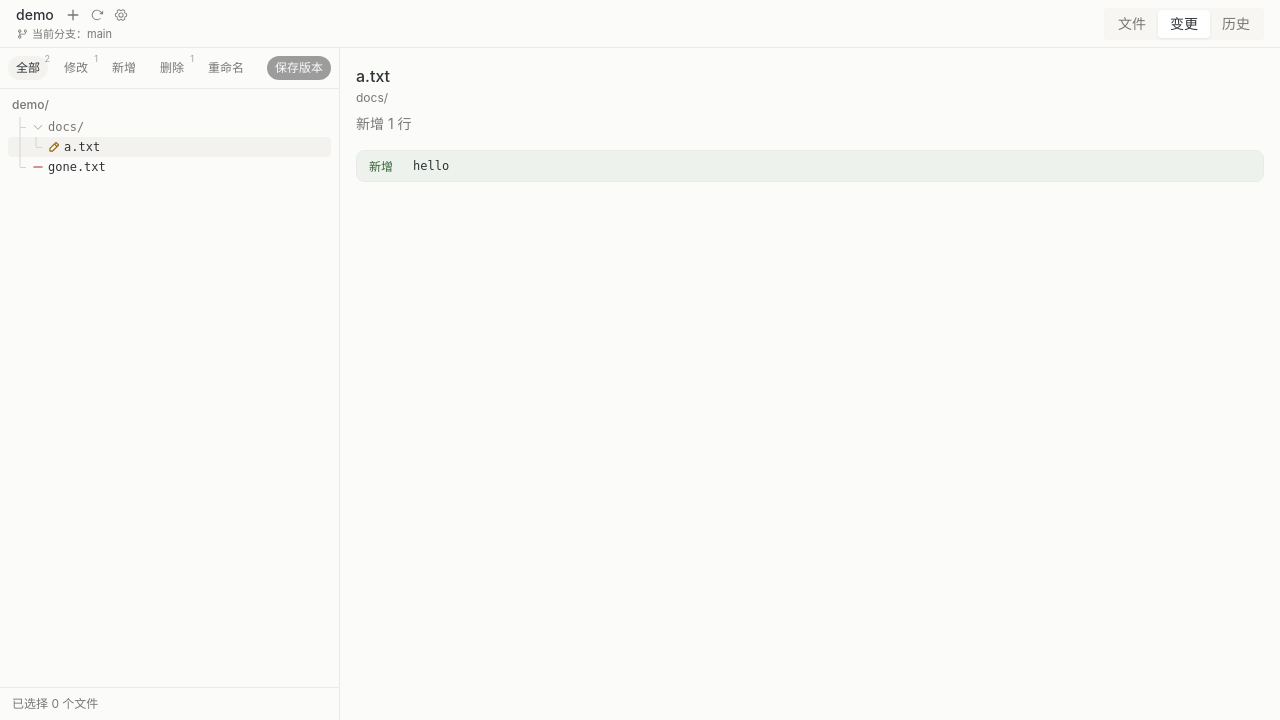
Test case: ProjectPage sidebar context menus › toggles change directories with caret clicks
Expected: the 2nd text titled "修改 · docs/a.txt" is shown, [64,139,100,155]
Click the button titled "docs/" at (38, 127), box [32,119,310,135]
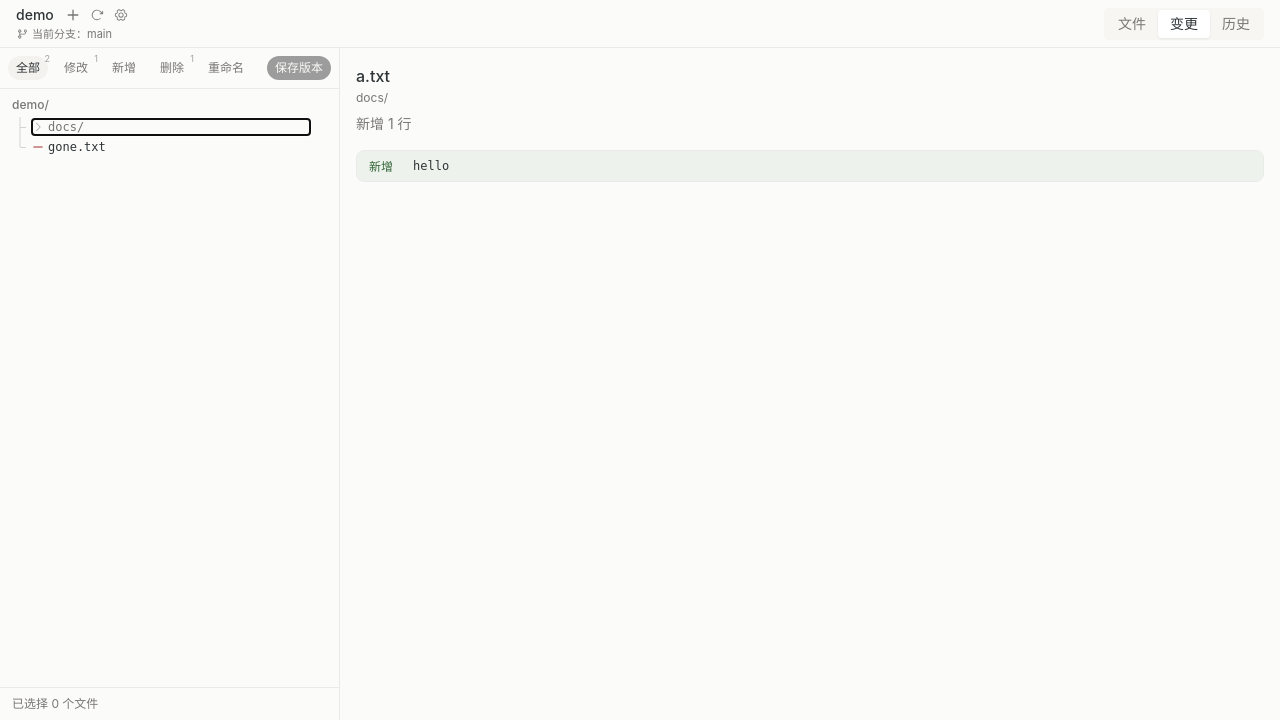
Click the button titled "docs/" at (38, 127), box [32,119,310,135]
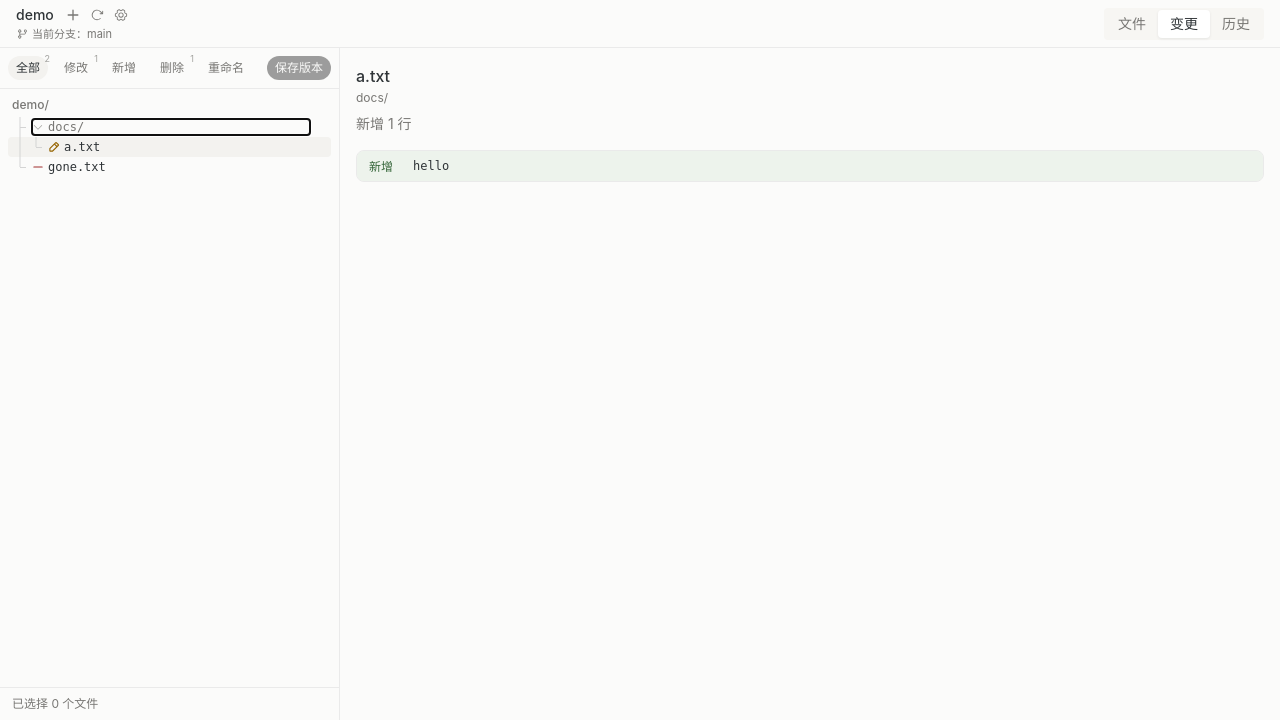
Expected: the 2nd text titled "修改 · docs/a.txt" is shown, [64,139,100,155]
